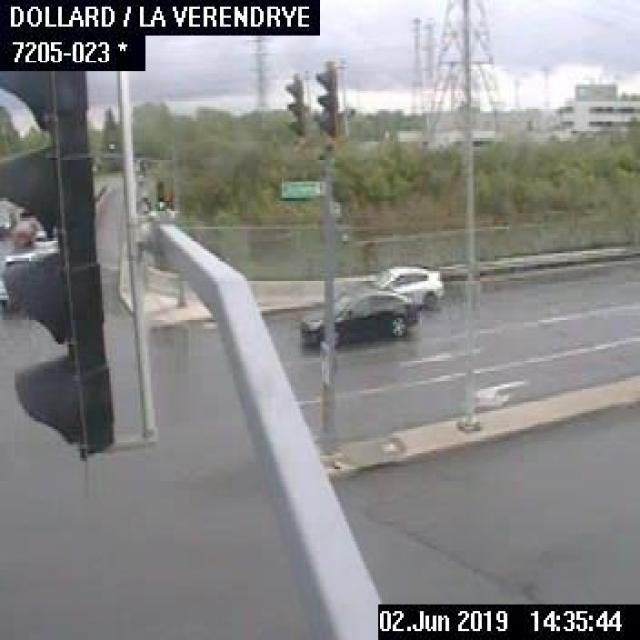vehicle: (296, 283, 422, 347), (360, 262, 442, 308), (8, 206, 41, 248), (0, 205, 16, 238), (0, 273, 13, 311)
